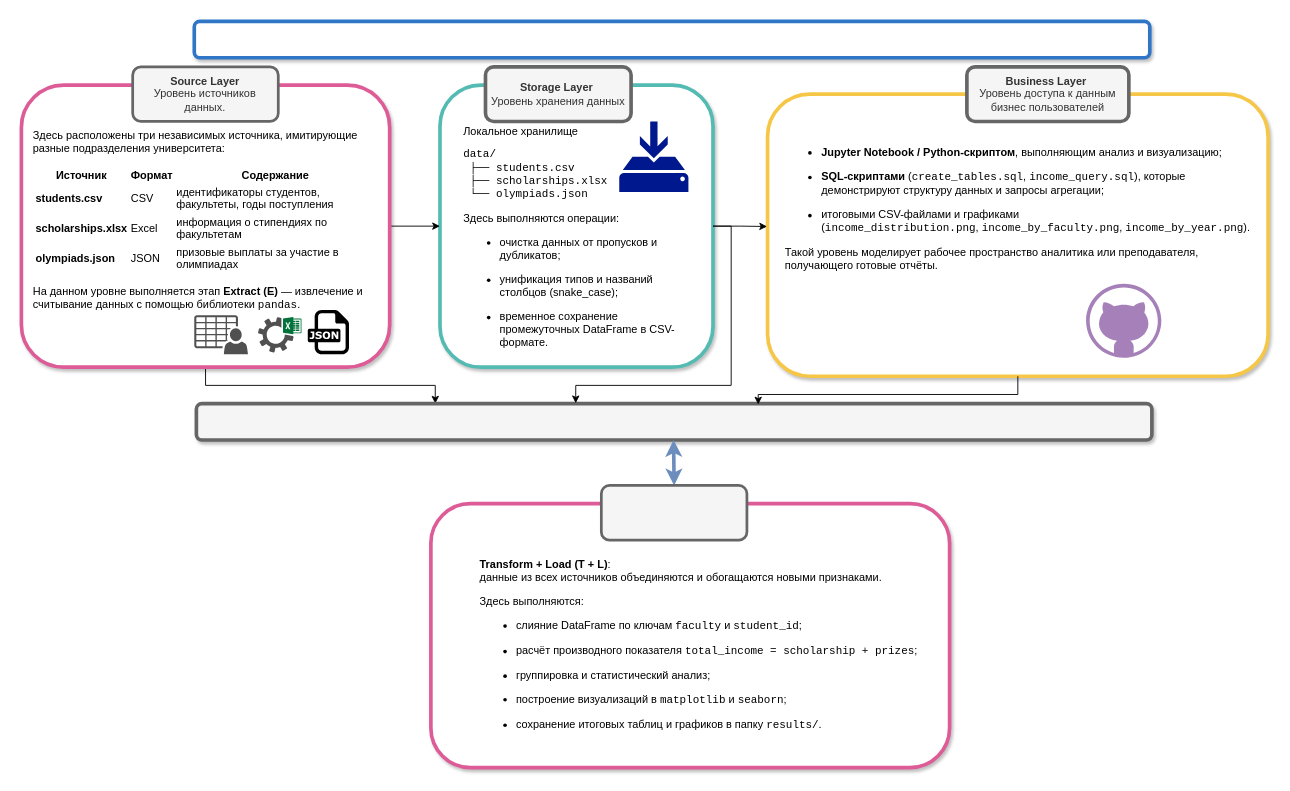
This 1290x791 diagram has some shape labels left out. The shapes that lost their labels are listed below. From the top down, each one's centre as x and y in pixels, then its label:
[672,40]: Архитектура аналитического решения "Практическая работа 3"
[674,512]: Уровень обработки данных
